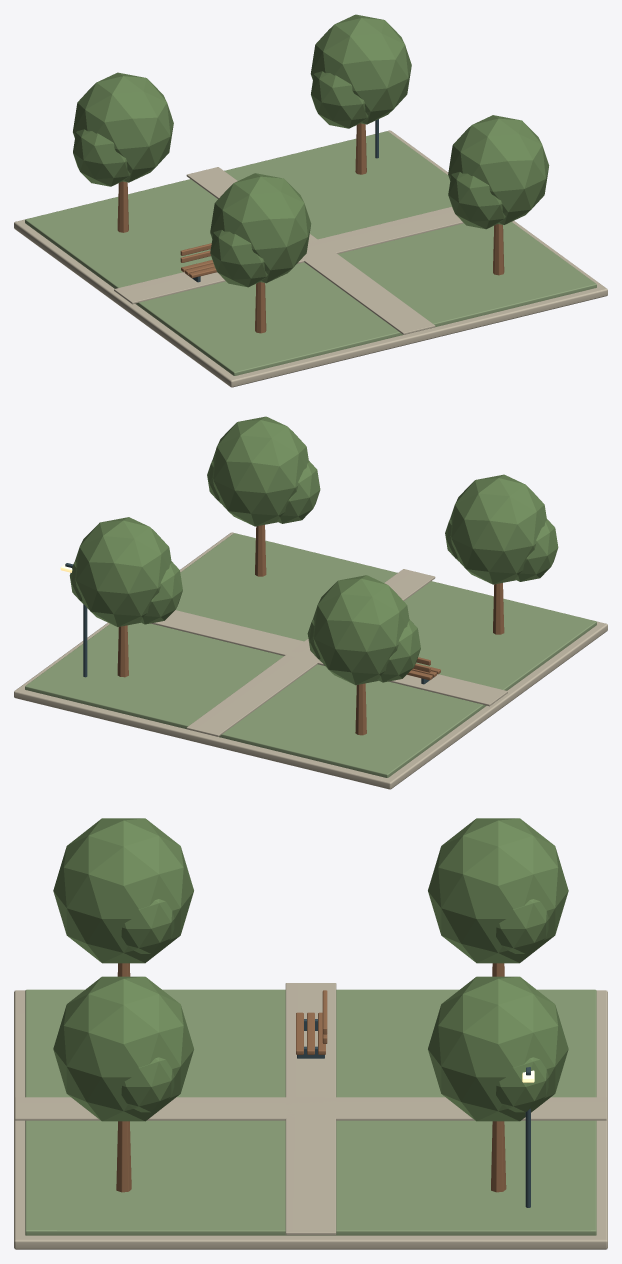
The model's file is grove.glb.
The picture shows the model from 3 angles, top to bottom: view 1: azimuth 30°, elevation 25°; view 2: azimuth 150°, elevation 25°; view 3: azimuth 270°, elevation 25°; orthographic projection. The views are drawn at different scales.
Parts seen in each view (by area): view 1: grove_Garden_Lawn, grove_Site_Paving, grove_Tree_Crown.009, grove_Tree_Crown, grove_Tree_Crown.003, grove_Tree_Crown.006, grove_Garden_Walk_X, grove_Garden_Walk_Z, grove_Tree_Crown.001, grove_Tree_Crown.004, grove_Tree_Crown.010, grove_Tree_Crown.007 (+4 smaller); view 2: grove_Garden_Lawn, grove_Tree_Crown.003, grove_Tree_Crown.006, grove_Tree_Crown.009, grove_Tree_Crown, grove_Site_Paving, grove_Garden_Walk_Z, grove_Garden_Walk_X, grove_Tree_Crown.004, grove_Tree_Crown.007, grove_Tree_Crown.001, grove_Tree_Crown.010 (+4 smaller); view 3: grove_Garden_Lawn, grove_Site_Paving, grove_Tree_Crown, grove_Tree_Crown.003, grove_Tree_Crown.006, grove_Tree_Crown.009, grove_Garden_Walk_X, grove_Garden_Walk_Z, grove_Tree_Crown.005, grove_Tree_Crown.008, grove_Tree_Crown.002, grove_Tree_Crown.011 (+3 smaller).
Part boxes in pixels (x1,y1,x2,y2): grove_Garden_Lawn: (25,131,596,375); grove_Site_Paving: (14,130,607,387); grove_Tree_Crown.009: (310,14,411,124); grove_Tree_Crown: (73,72,173,182); grove_Tree_Crown.003: (448,115,549,224); grove_Tree_Crown.006: (210,173,311,283); grove_Garden_Walk_X: (114,207,463,304); grove_Garden_Walk_Z: (186,167,435,334); grove_Tree_Crown.001: (73,129,130,186); grove_Tree_Crown.004: (448,172,505,229); grove_Tree_Crown.010: (311,71,368,128); grove_Tree_Crown.007: (210,230,267,287); grove_Garden_Lawn: (25,533,596,777); grove_Tree_Crown.003: (212,416,308,526); grove_Tree_Crown.006: (450,474,546,584); grove_Tree_Crown.009: (75,517,171,626); grove_Tree_Crown: (313,575,409,685); grove_Site_Paving: (14,532,607,789); grove_Garden_Walk_Z: (186,569,435,736); grove_Garden_Walk_X: (151,610,507,706); grove_Tree_Crown.004: (277,461,320,523); grove_Tree_Crown.007: (515,519,558,581); grove_Tree_Crown.001: (377,619,420,682); grove_Tree_Crown.010: (140,561,182,624); grove_Garden_Lawn: (25,989,596,1235); grove_Site_Paving: (14,990,607,1249); grove_Tree_Crown: (428,818,568,963); grove_Tree_Crown.003: (53,976,193,1121); grove_Tree_Crown.006: (53,818,193,963); grove_Tree_Crown.009: (428,976,568,1121); grove_Garden_Walk_X: (285,983,336,1235); grove_Garden_Walk_Z: (15,1097,606,1120); grove_Tree_Crown.005: (121,1057,174,1112); grove_Tree_Crown.008: (121,899,174,953); grove_Tree_Crown.002: (496,899,548,953); grove_Tree_Crown.011: (496,1057,548,1112).
Size of the model in its own units: 11.8 by 4.94 by 11.8.
